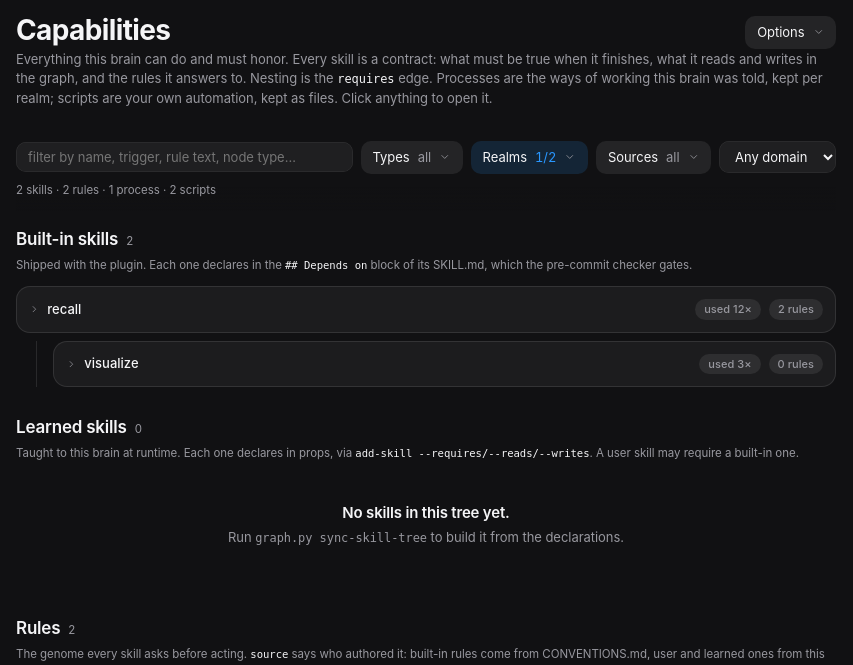
Scenario: Capabilities › narrows by type, and the types are multi-select
The width and height of the screenshot is (853, 665).
Expected: the text "2 skills · 2 rules · 1 process · 2 scripts" is shown, [16,182,216,200]
What coordinates should you click on to do the following:
click the button "Types all"
I would click on:
 (412, 157)
Its box is [360,141,463,174].
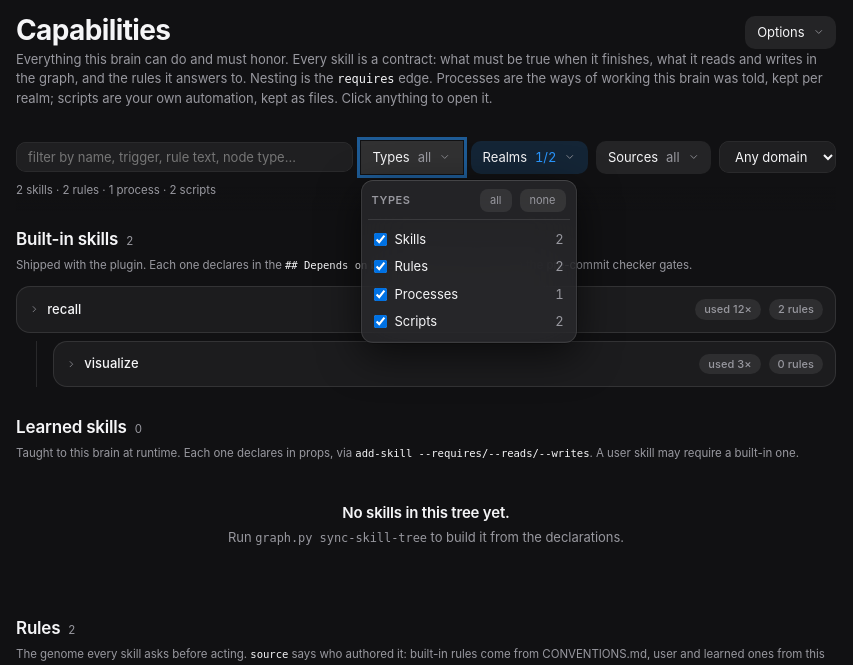
What coordinates should you click on to do the following:
click the checkbox labelled "Skills 2"
I would click on:
 (380, 240)
Its box is [374,233,386,246].
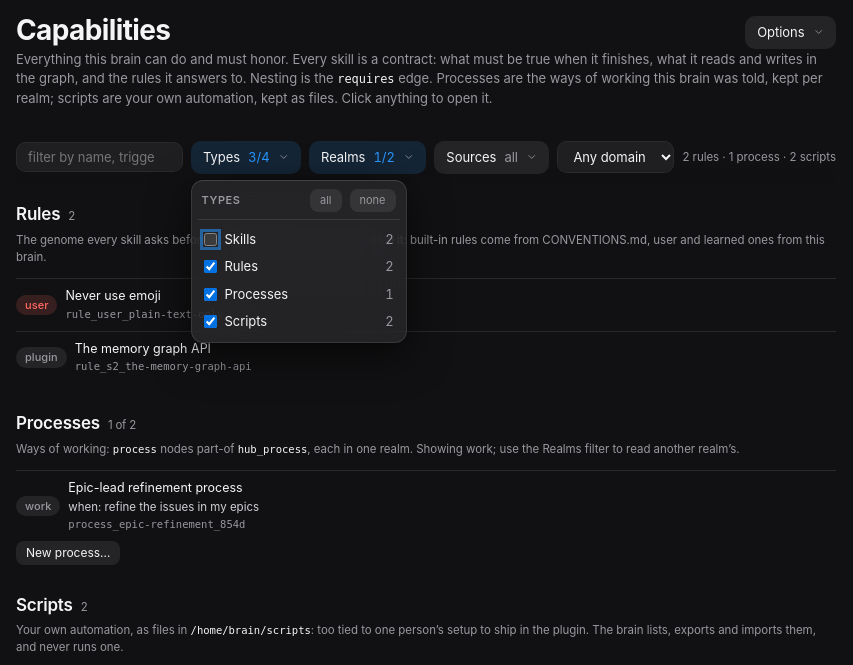
Expected: the text "2 rules · 1 process · 2 scripts" is shown, [682,149,836,166]
Result: the heading "Built-in skills" is gone
What coordinates should you click on to do the following:
click the checkbox labelled "Processes 1"
I would click on:
 (210, 294)
Its box is [204,288,217,301].
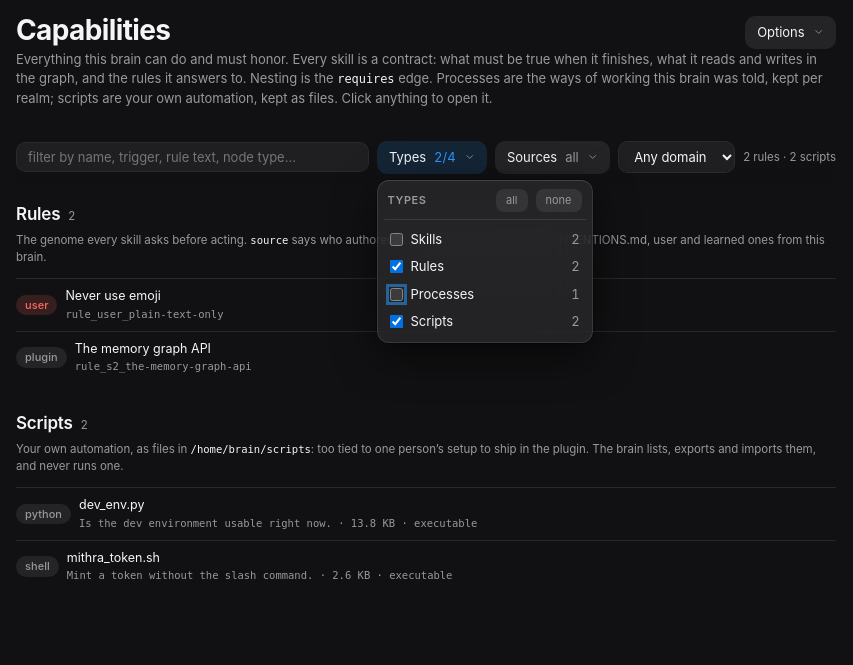
Result: the text "2 rules · 2 scripts" is shown at [743,149,836,166]
